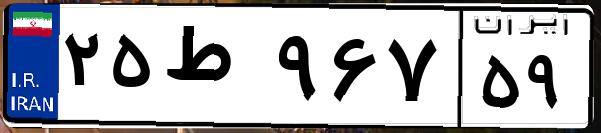2: (57, 26, 110, 100)
5: (475, 38, 525, 113), (110, 28, 158, 98)
6: (330, 28, 385, 110)
7: (385, 28, 445, 110)
9: (270, 28, 330, 110), (525, 38, 570, 115)
ط: (158, 20, 270, 120)
